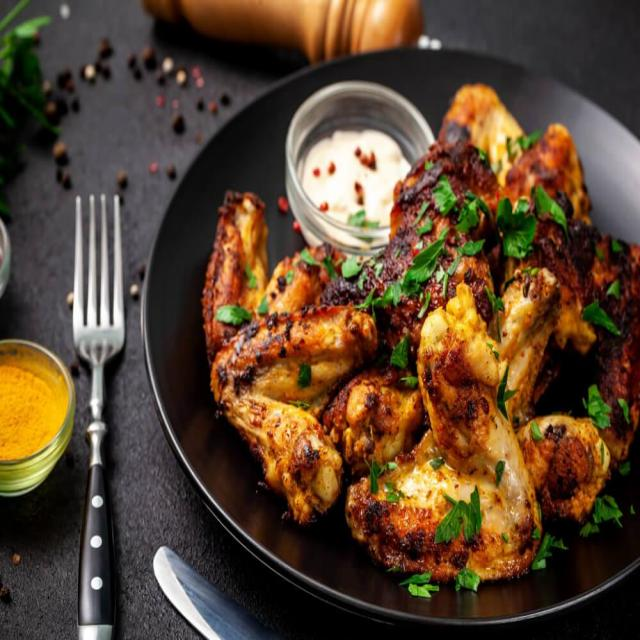chicken: (192, 141, 640, 568)
